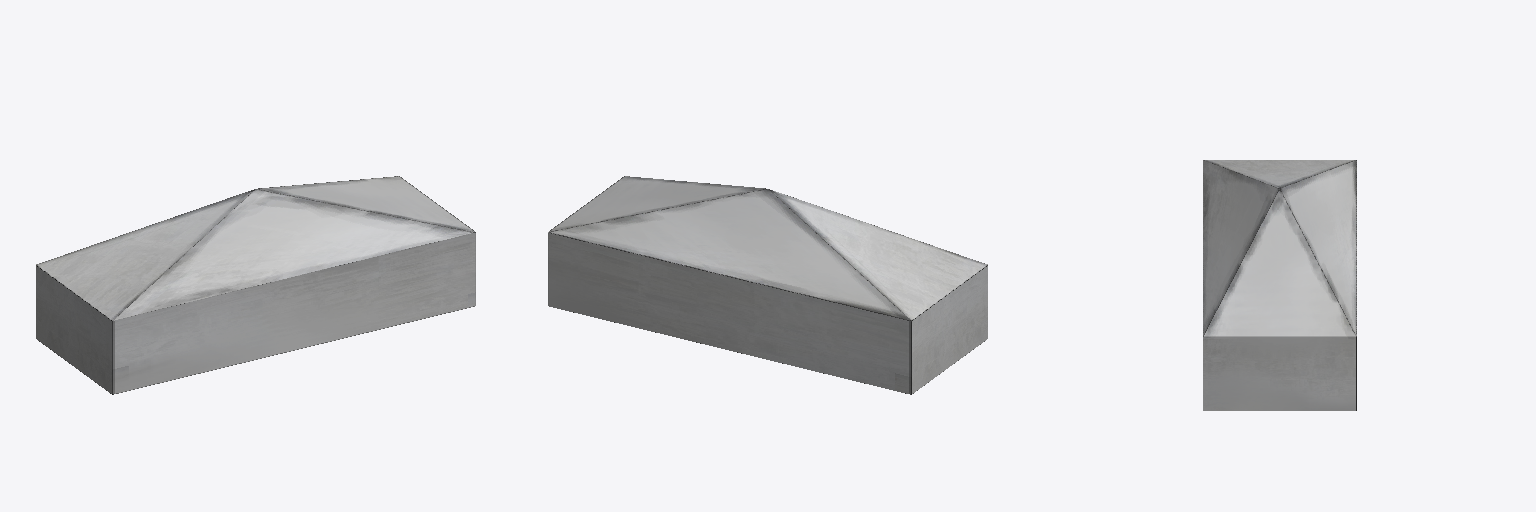
3 renders of one model, left to right at view 1: azimuth 30°, elevation 25°; view 2: azimuth 150°, elevation 25°; view 3: azimuth 270°, elevation 25°, orthographic.
Parts seen in each view (by area): view 1: Cube; view 2: Cube; view 3: Cube.
Part boxes in pixels (bbox=[...]): Cube: bbox=[36, 176, 475, 394]; Cube: bbox=[548, 176, 987, 394]; Cube: bbox=[1203, 160, 1356, 410].
Bounding box in the file's own units: 2.04 × 0.7131 × 0.7485.
Materials: 1 (1 with a texture image).